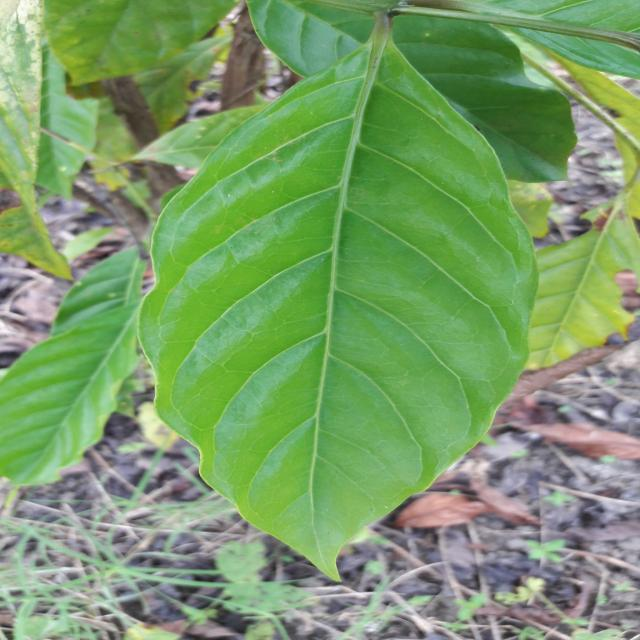Sanas: (137, 15, 537, 581)
